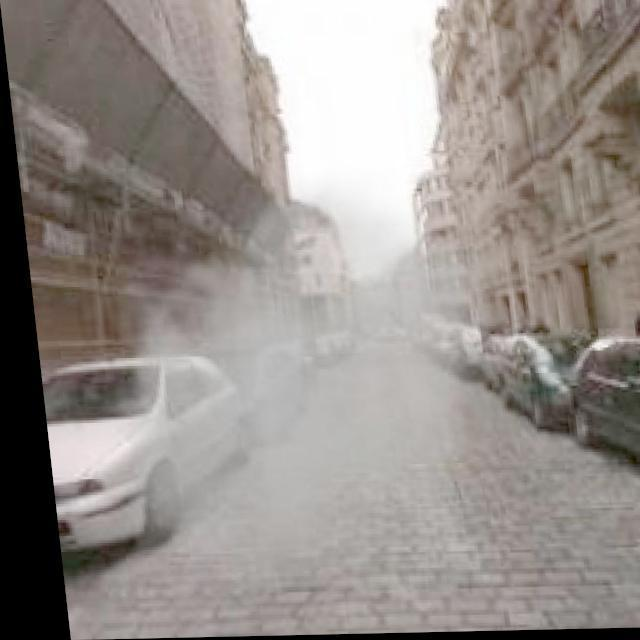Smoke: (81, 181, 486, 587)
